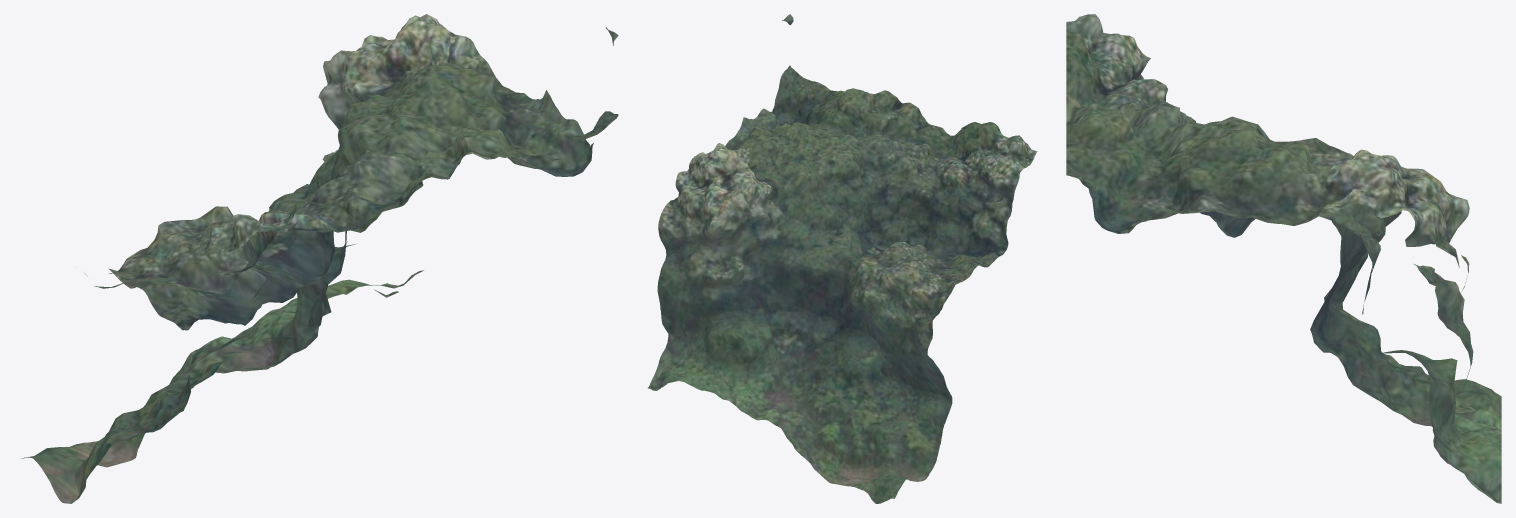
File: Tile__005__004_L22_00023100.glb
3 views of the same model, side by side, from view 1: azimuth 30°, elevation 25°; view 2: azimuth 150°, elevation 25°; view 3: azimuth 270°, elevation 25° (orthographic). The views are drawn at different scales.
Parts seen in each view (by area): view 1: root; view 2: root; view 3: root.
Part boxes in pixels (x1,y1,x2,y2): root: (20,14,618,503); root: (648,14,1037,503); root: (1066,14,1501,503).
Bounding box in the file's own units: 12.56 × 15.99 × 12.56.
1 material, 1 textured.
